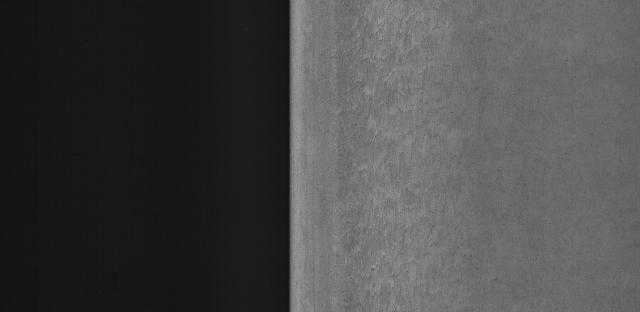silk_spot: (338, 14, 459, 286)
